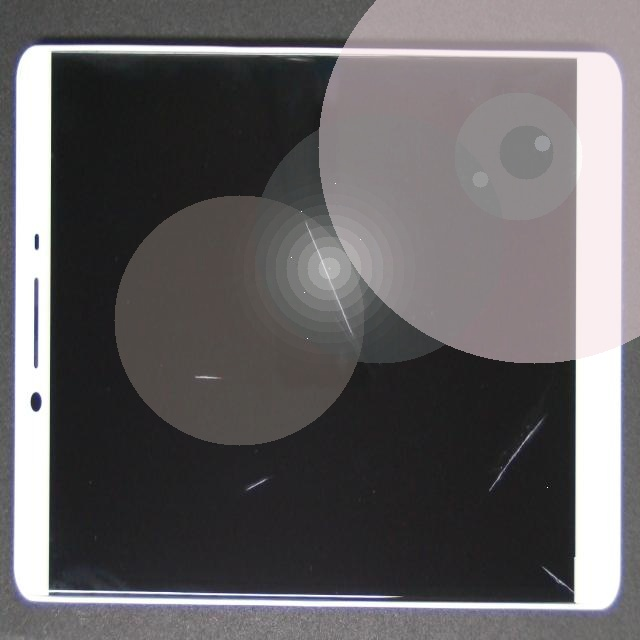scratch: (242, 215, 640, 640), (179, 186, 538, 559), (312, 283, 640, 640), (119, 223, 357, 640)
